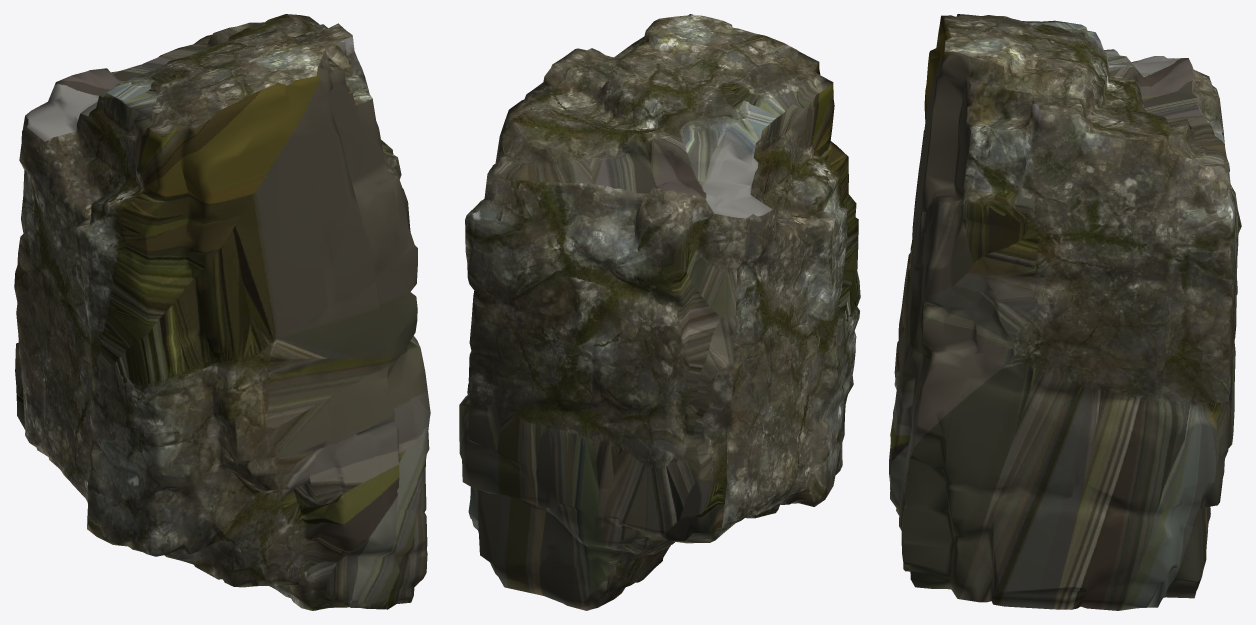
The model's file is Rock - Alien Rock 03-D30sgYQb.glb.
3 views of the same model, side by side, from view 1: azimuth 30°, elevation 25°; view 2: azimuth 150°, elevation 25°; view 3: azimuth 270°, elevation 25° (orthographic). The views are drawn at different scales.
Visible parts, largest first — view 1: Rock_03(Clone); view 2: Rock_03(Clone); view 3: Rock_03(Clone).
Part boxes in pixels (x1,y1,x2,y2): Rock_03(Clone): (14, 14, 430, 610); Rock_03(Clone): (459, 14, 860, 610); Rock_03(Clone): (889, 14, 1241, 610).
Size of the model in its own units: 3.1 by 5 by 3.11.
1 material, 1 textured.
